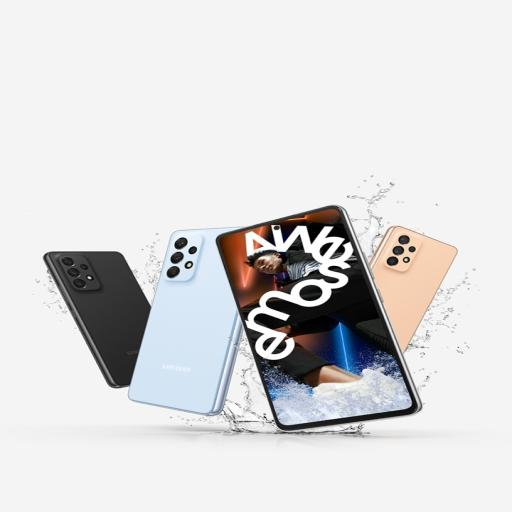phone: (210, 207, 421, 435)
